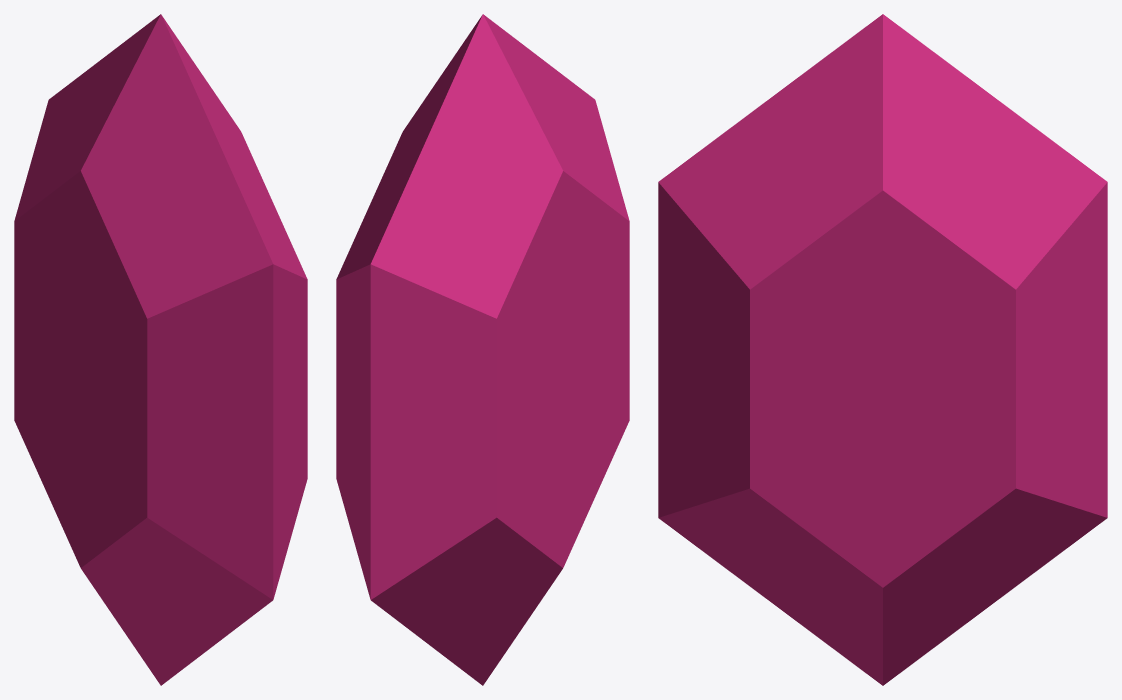
Rendered from PropRupee.fbx.
The picture shows the model from 3 angles, left to right: view 1: azimuth 30°, elevation 25°; view 2: azimuth 150°, elevation 25°; view 3: azimuth 270°, elevation 25°; orthographic projection.
Visible parts, largest first — view 1: RupeeMain; view 2: RupeeMain; view 3: RupeeMain.
Boxes of the visible parts, <box> form: RupeeMain: <box>14,14,307,685</box>; RupeeMain: <box>336,14,629,685</box>; RupeeMain: <box>658,14,1107,685</box>.
Size of the model in its own units: 10 by 40 by 24.25.
